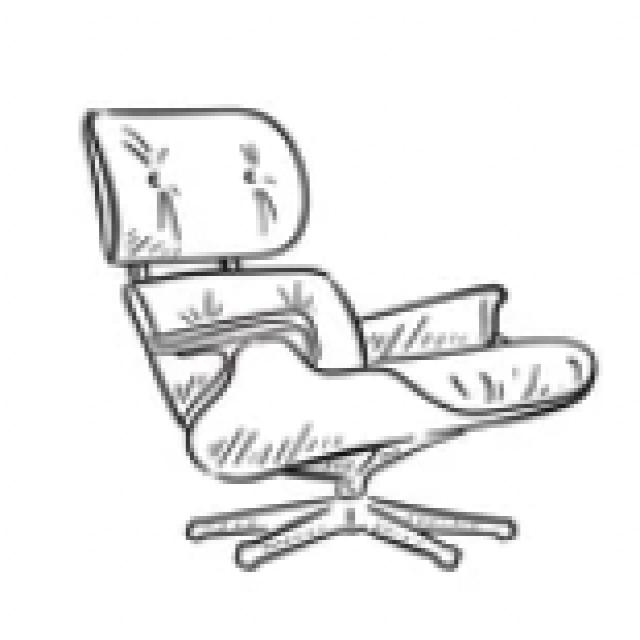Backrest: (121, 264, 367, 438)
Eames_base: (175, 483, 551, 589)
Eames_lounge: (357, 279, 509, 369), (144, 312, 315, 381)
Headrest: (82, 105, 310, 268)
Seat: (187, 335, 598, 485)
